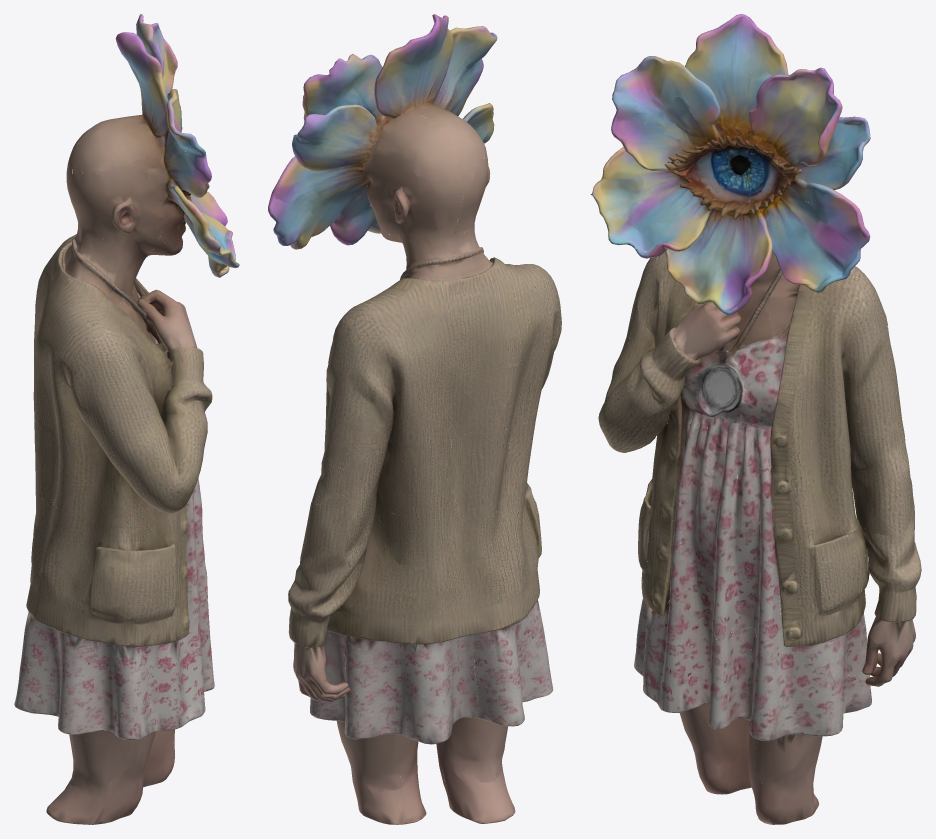
Rendered from rosemary.glb.
The picture shows the model from 3 angles, left to right: view 1: azimuth 30°, elevation 25°; view 2: azimuth 150°, elevation 25°; view 3: azimuth 270°, elevation 25°; orthographic projection.
Parts seen in each view (by area): view 1: tripo_node_c2bd8c0d-a308-427d-9c4a-32c9a3a762b1; view 2: tripo_node_c2bd8c0d-a308-427d-9c4a-32c9a3a762b1; view 3: tripo_node_c2bd8c0d-a308-427d-9c4a-32c9a3a762b1.
Boxes of the visible parts, left/top/right/bottom form: tripo_node_c2bd8c0d-a308-427d-9c4a-32c9a3a762b1: left=14, top=14, right=239, bottom=824; tripo_node_c2bd8c0d-a308-427d-9c4a-32c9a3a762b1: left=268, top=14, right=561, bottom=824; tripo_node_c2bd8c0d-a308-427d-9c4a-32c9a3a762b1: left=590, top=14, right=921, bottom=824.
Bounding box in the file's own units: 0.2754 × 0.9998 × 0.3833.
Materials: 1 (1 with a texture image).
